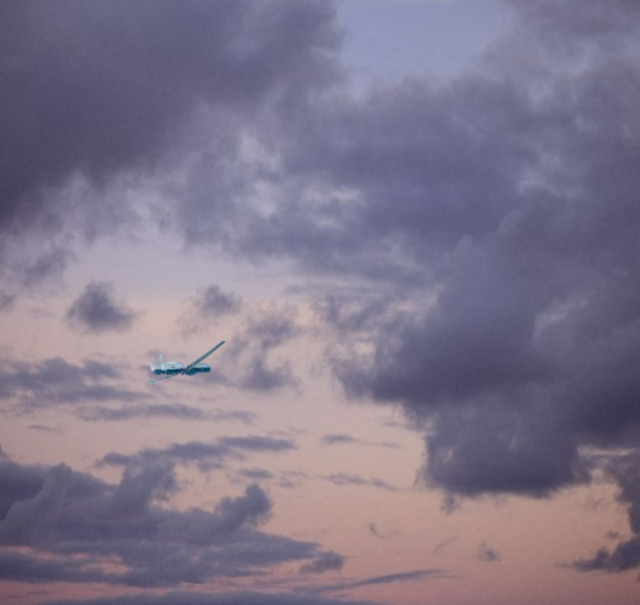military drone: (145, 340, 225, 385)
